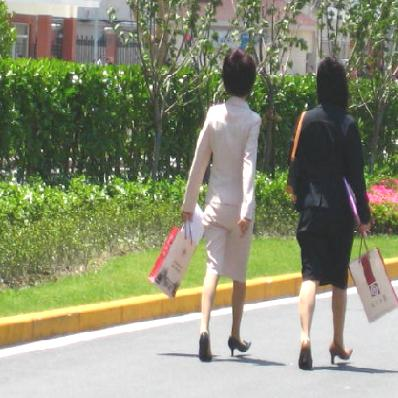ped: (291, 58, 374, 370), (185, 50, 262, 361)
